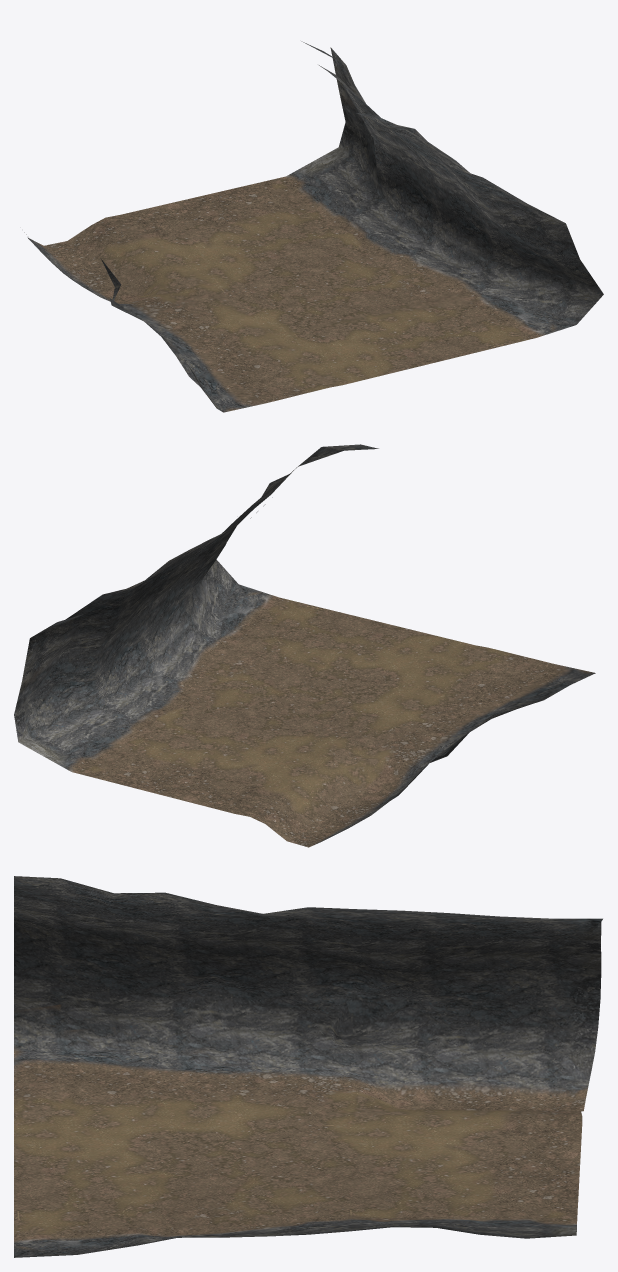
Rendered from TunnelA1.glb.
3 renders of one model, top to bottom at view 1: azimuth 30°, elevation 25°; view 2: azimuth 150°, elevation 25°; view 3: azimuth 270°, elevation 25°, orthographic. The views are drawn at different scales.
Parts seen in each view (by area): view 1: TunnelA1; view 2: TunnelA1; view 3: TunnelA1.
Part boxes in pixels (x1,y1,x2,y2): TunnelA1: (24, 41, 603, 412); TunnelA1: (14, 444, 595, 847); TunnelA1: (14, 876, 602, 1257).
Bounding box in the file's own units: 4.88 × 2.55 × 5.21.
1 material, 1 textured.
